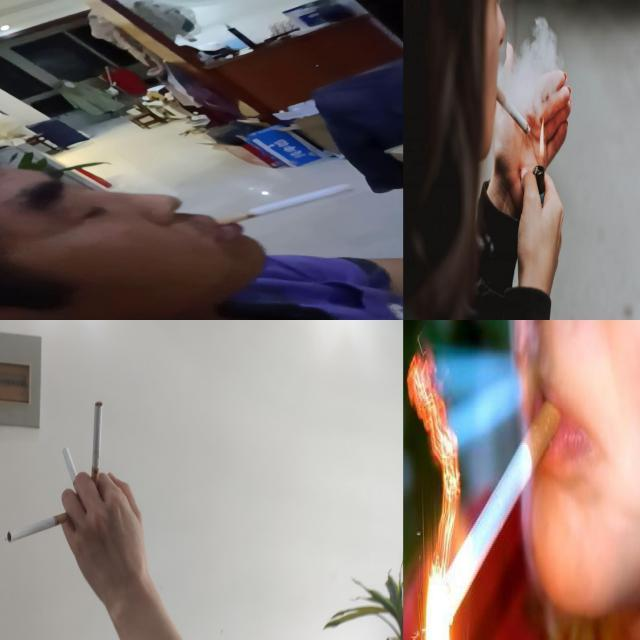smoke: (448, 389, 562, 606), (215, 184, 356, 227), (7, 512, 71, 544), (494, 83, 532, 136), (62, 446, 86, 506), (90, 402, 104, 494)
